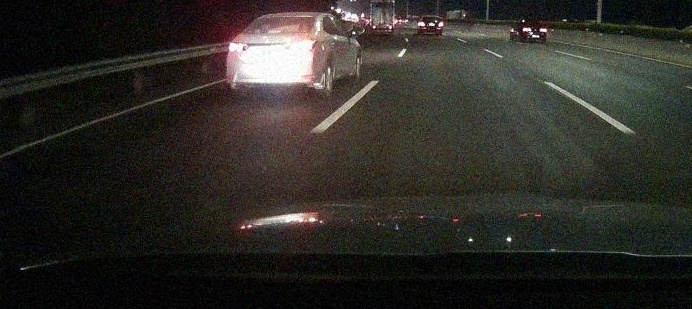L_light: (228, 40, 250, 53)
R_light: (294, 39, 318, 51)
T_light: (279, 16, 295, 21)
night-right: (225, 13, 324, 96)
